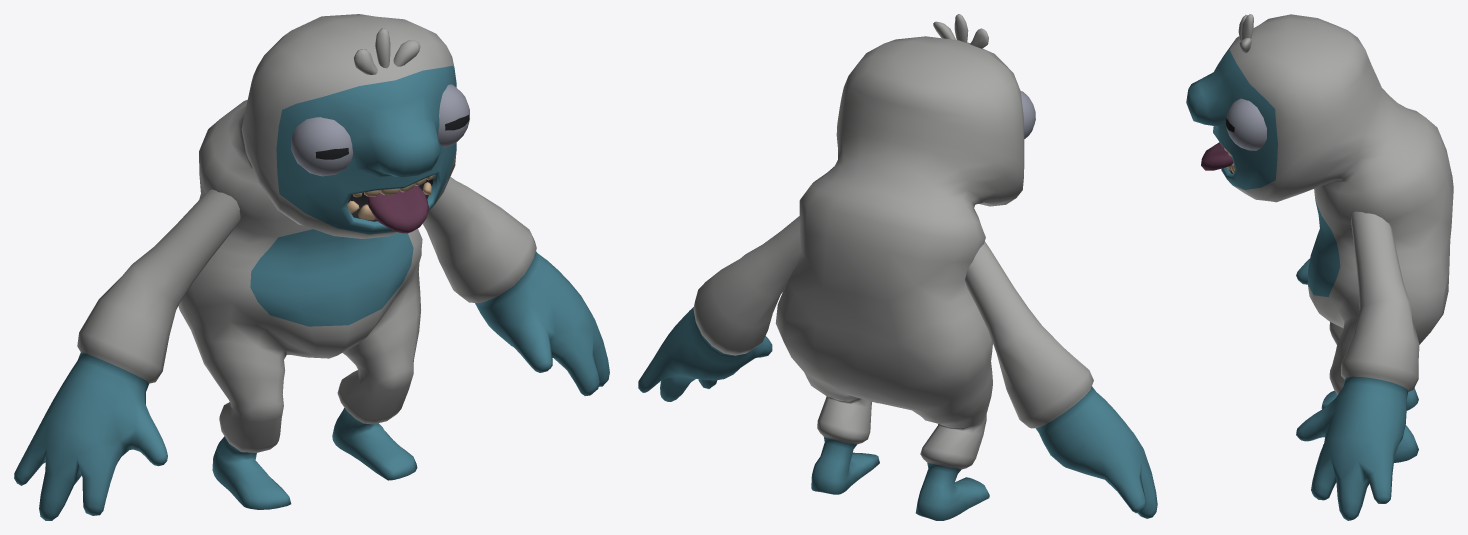
File: Yeti.obj
3 renders of one model, left to right at view 1: azimuth 30°, elevation 25°; view 2: azimuth 150°, elevation 25°; view 3: azimuth 270°, elevation 25°, orthographic. The views are drawn at different scales.
Parts seen in each view (by area): view 1: Yeti_Cube.059; view 2: Yeti_Cube.059; view 3: Yeti_Cube.059.
Boxes of the visible parts, x1,y1,x2,y2 form: Yeti_Cube.059: (14, 14, 609, 520); Yeti_Cube.059: (638, 14, 1157, 520); Yeti_Cube.059: (1186, 14, 1453, 520).
Bounding box in the file's own units: 3.22 × 2.64 × 1.53.
